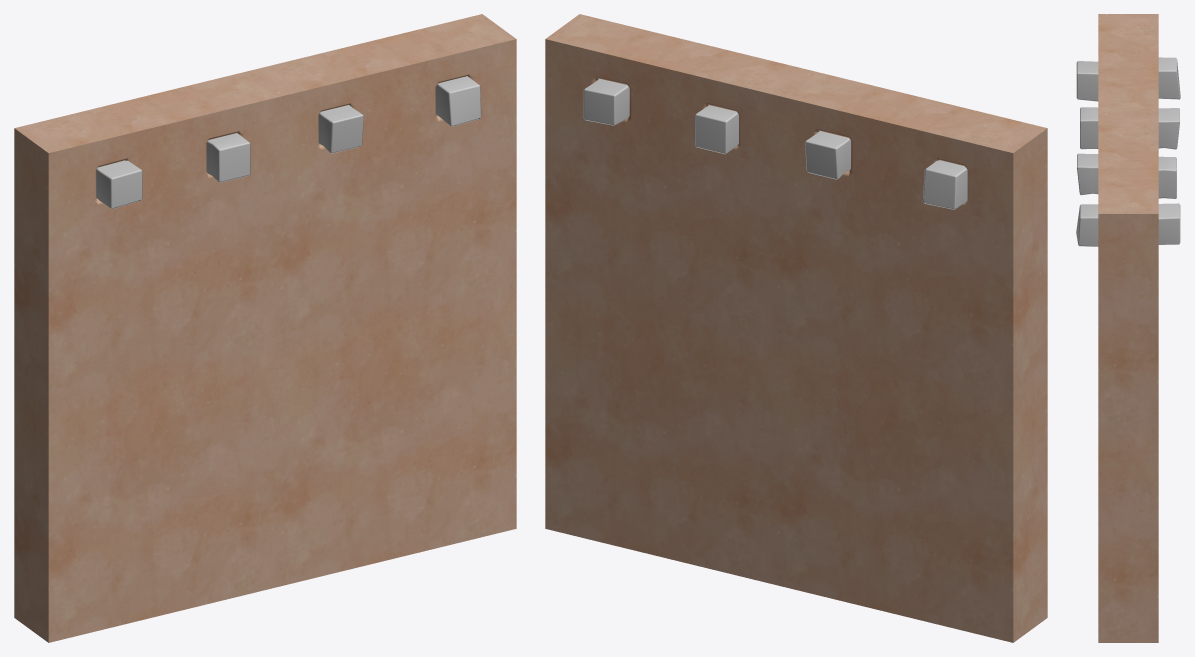
3 renders of one model, left to right at view 1: azimuth 30°, elevation 25°; view 2: azimuth 150°, elevation 25°; view 3: azimuth 270°, elevation 25°, orthographic. The views are drawn at different scales.
Visible parts, largest first — view 1: SM_BB_T4_Wall_Large_02_LOD0; view 2: SM_BB_T4_Wall_Large_02_LOD0; view 3: SM_BB_T4_Wall_Large_02_LOD0.
Boxes of the visible parts, box(x1,y1,x2,y2) form: SM_BB_T4_Wall_Large_02_LOD0: box(14, 14, 516, 642); SM_BB_T4_Wall_Large_02_LOD0: box(545, 14, 1047, 642); SM_BB_T4_Wall_Large_02_LOD0: box(1076, 14, 1180, 642).
Bounding box in the file's own units: 3 × 3 × 0.6635.
